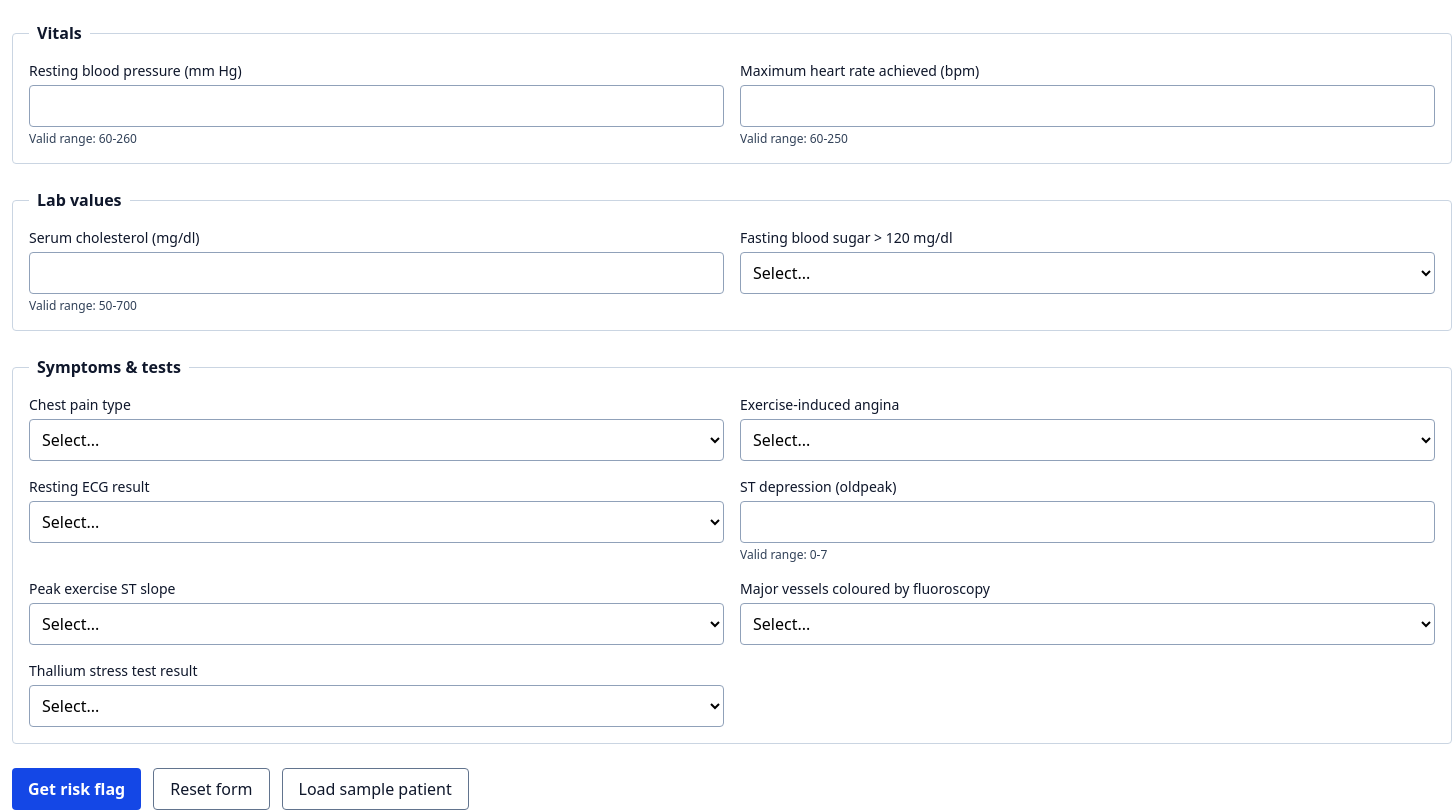
Test case: ScorePage › shows inline validation errors and does not call the API for an empty form
(page scrolled)
Click the button "Get risk flag".
click(77, 789)  # box x1=12 y1=768 x2=141 y2=809
(page scrolled)
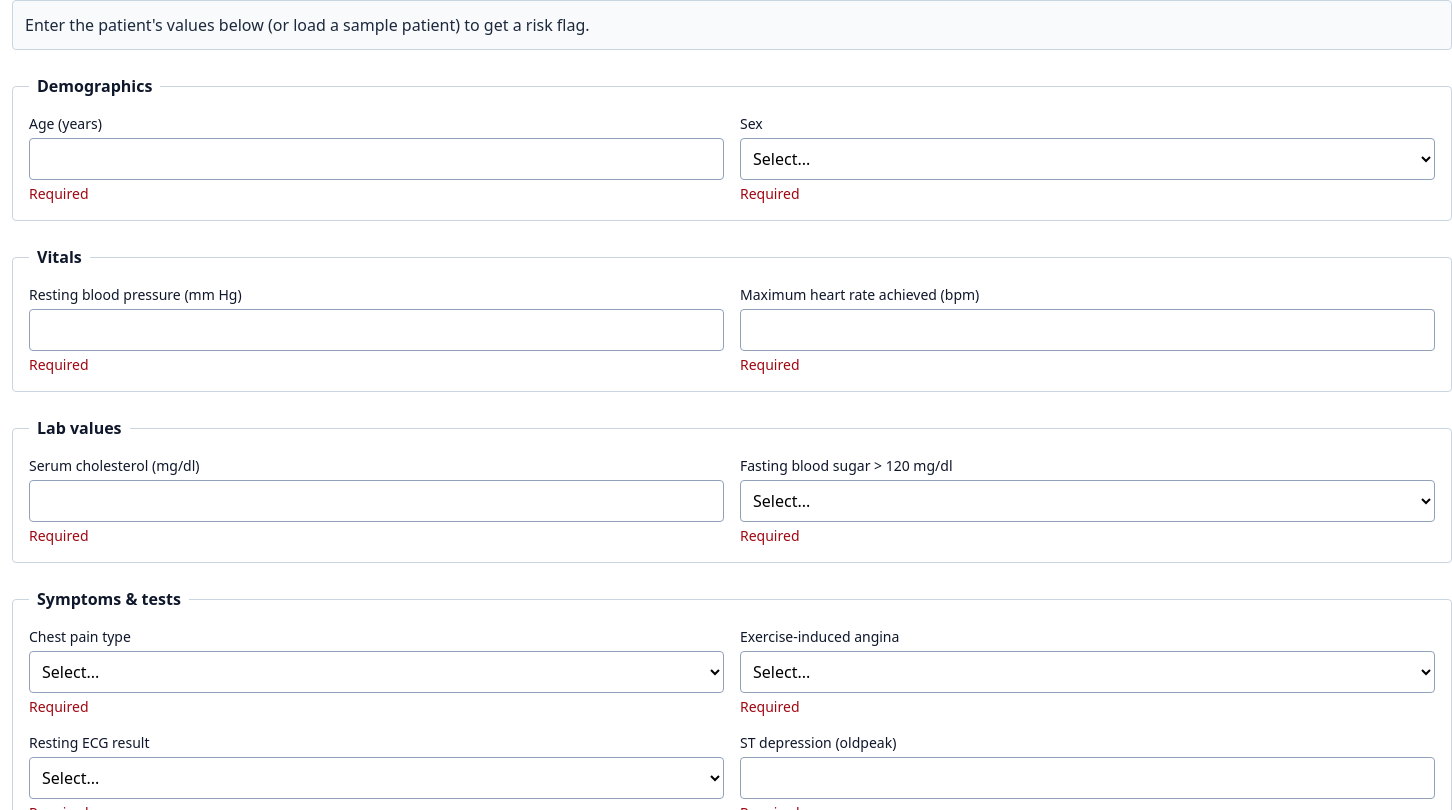
Check: the text "Required" below "Age" is shown, box x1=29 y1=184 x2=88 y2=203
